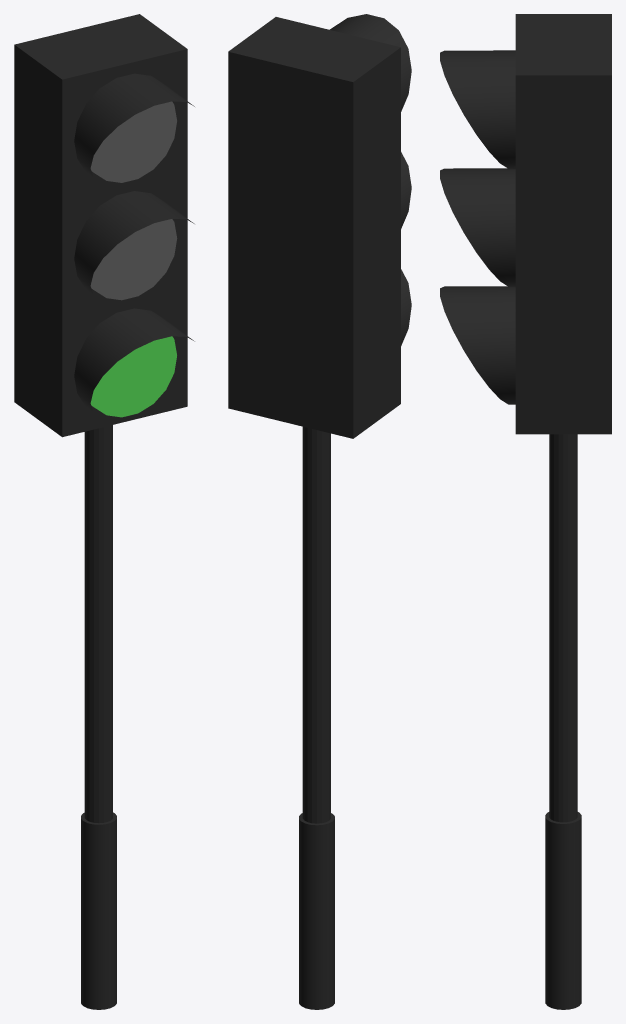
The model's file is semaforo.glb.
3 renders of one model, left to right at view 1: azimuth 30°, elevation 25°; view 2: azimuth 150°, elevation 25°; view 3: azimuth 270°, elevation 25°, orthographic.
Visible parts, largest first — view 1: Cylinder001; view 2: Cylinder001; view 3: Cylinder001.
Part boxes in pixels (<box>): Cylinder001: <box>14,14,194,1009</box>; Cylinder001: <box>228,14,411,1009</box>; Cylinder001: <box>440,14,611,1009</box>.
Bounding box in the file's own units: 0.4811 × 3.5 × 0.5683.
